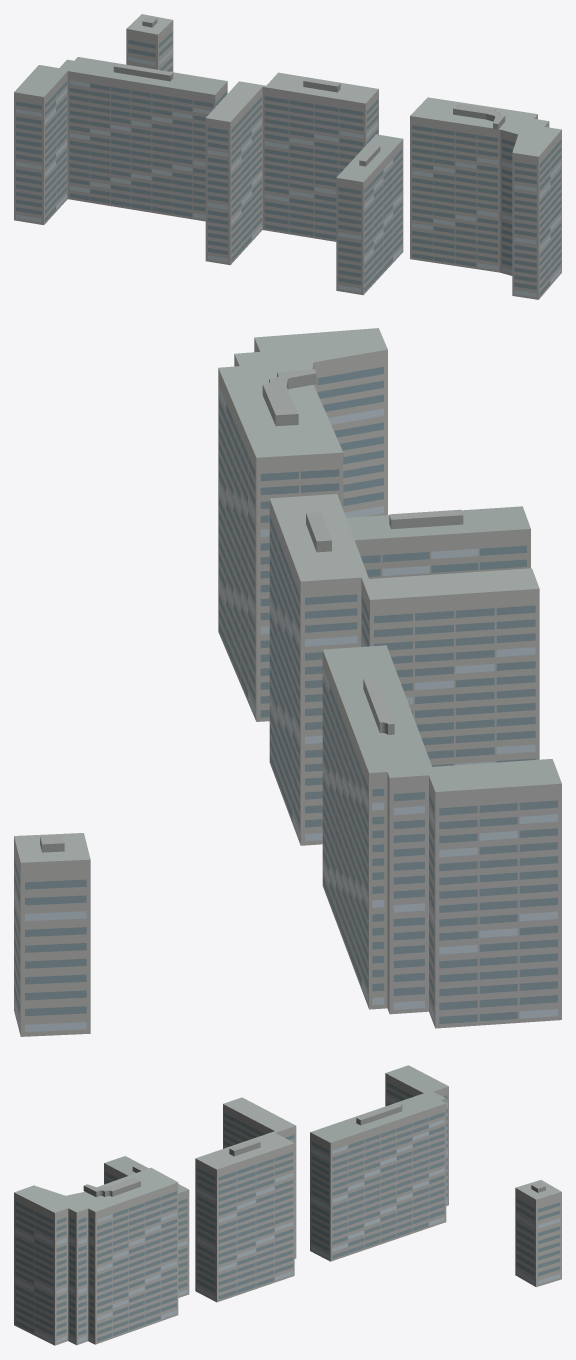
Rendered from apt-a15101101.glb.
3 views of the same model, one above another, from view 1: azimuth 30°, elevation 25°; view 2: azimuth 150°, elevation 25°; view 3: azimuth 270°, elevation 25° (orthographic). The views are drawn at different scales.
Parts seen in each view (by area): view 1: apt-a15101101; view 2: apt-a15101101; view 3: apt-a15101101.
Boxes of the visible parts, <box> form: apt-a15101101: <box>14,14,561,299</box>; apt-a15101101: <box>14,328,561,1036</box>; apt-a15101101: <box>14,1065,561,1345</box>.
Size of the model in its own units: 151 by 60.35 by 217.
